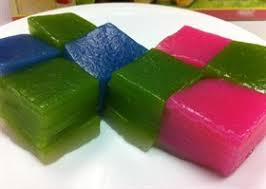kanomchan: (1, 57, 111, 169), (110, 44, 222, 148), (159, 70, 266, 177)
